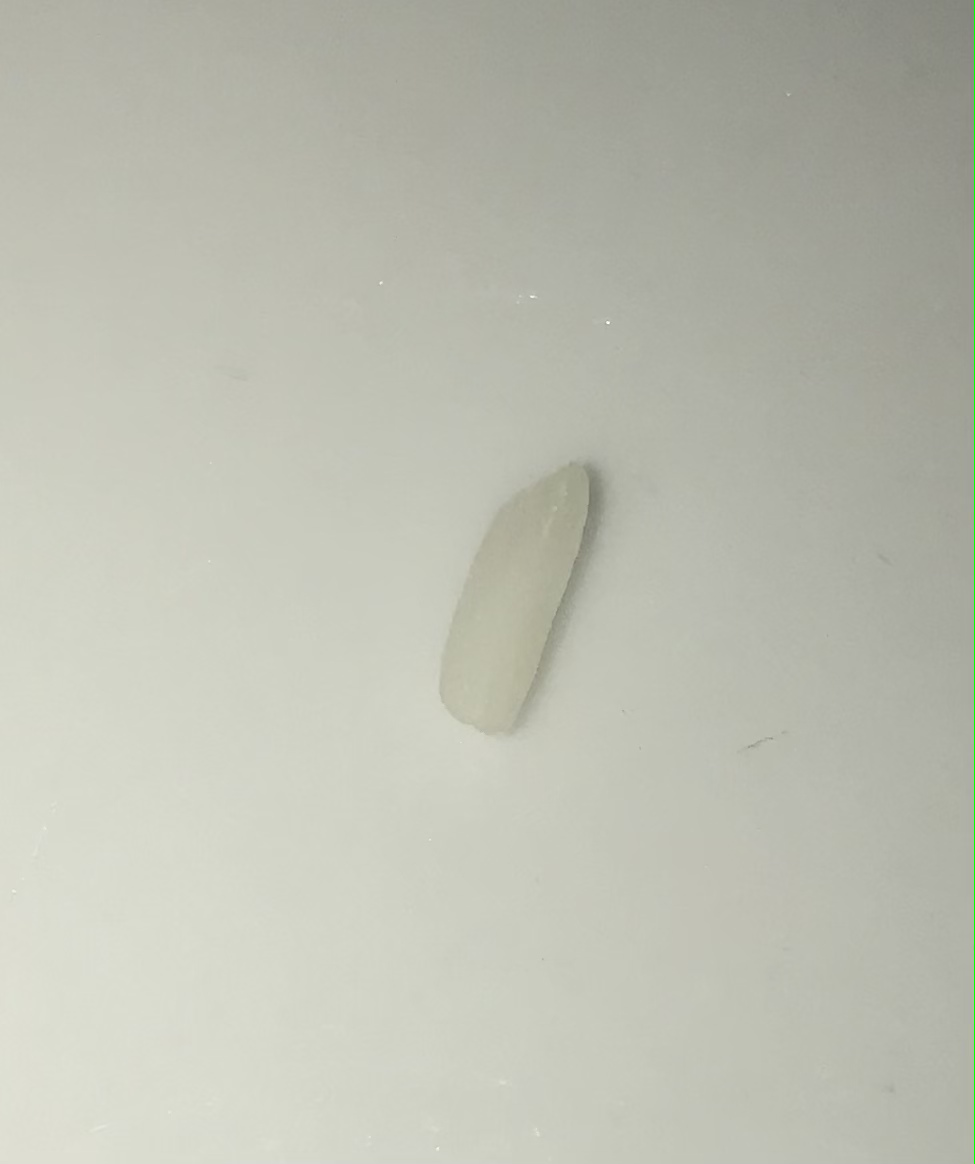Gao Thom Go Cong: (448, 434, 624, 773)
